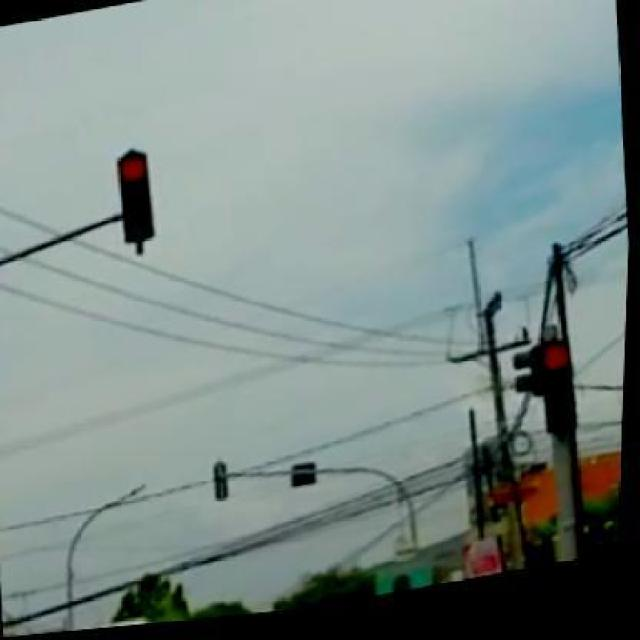Traffic Light -Red-: (536, 329, 582, 440), (112, 140, 158, 249)
